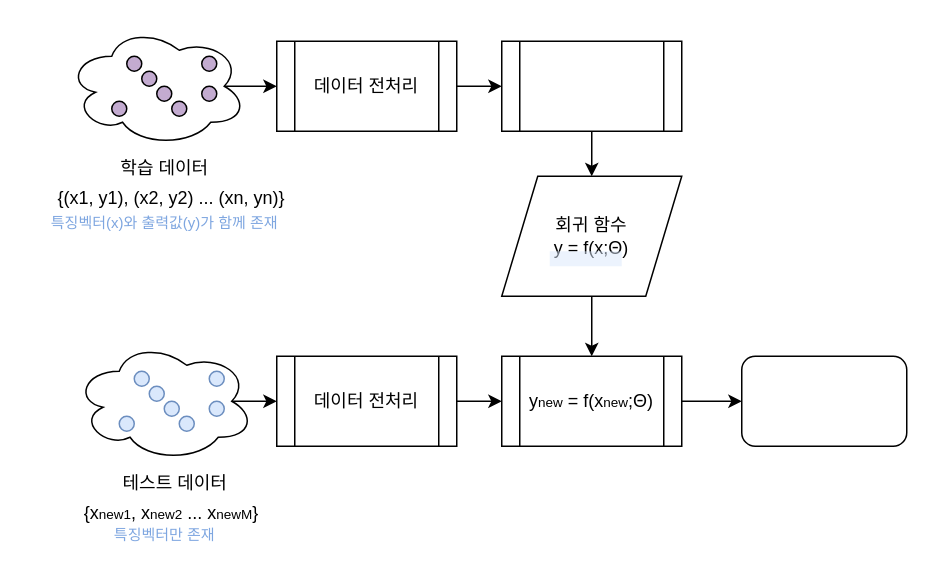
The diagram is 933 pixels wide and 584 high, and some of its shapes have lost their labels. Each missing label, with the box of its shape:
예측 결과 y new: (740, 355, 907, 446)
학습 (데이터 분석): (500, 40, 682, 131)
